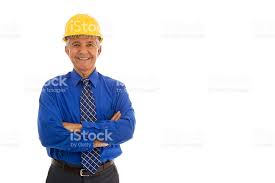Person_wearing_helmet: (56, 10, 105, 50)
